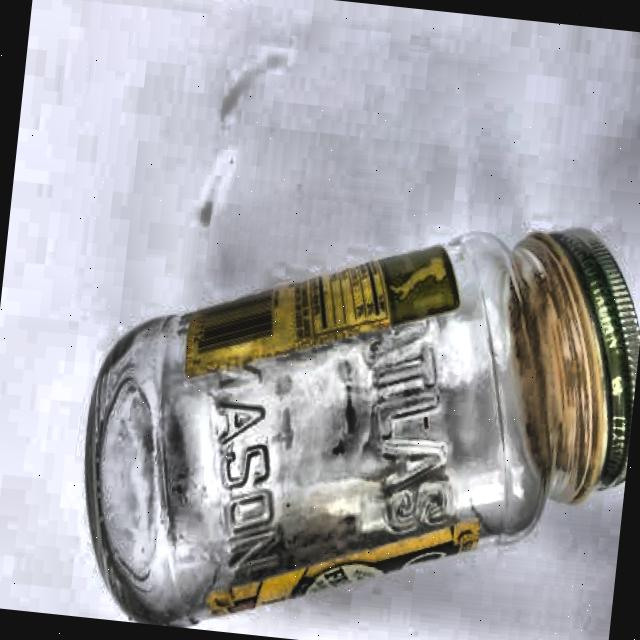glass: (67, 178, 640, 640)
